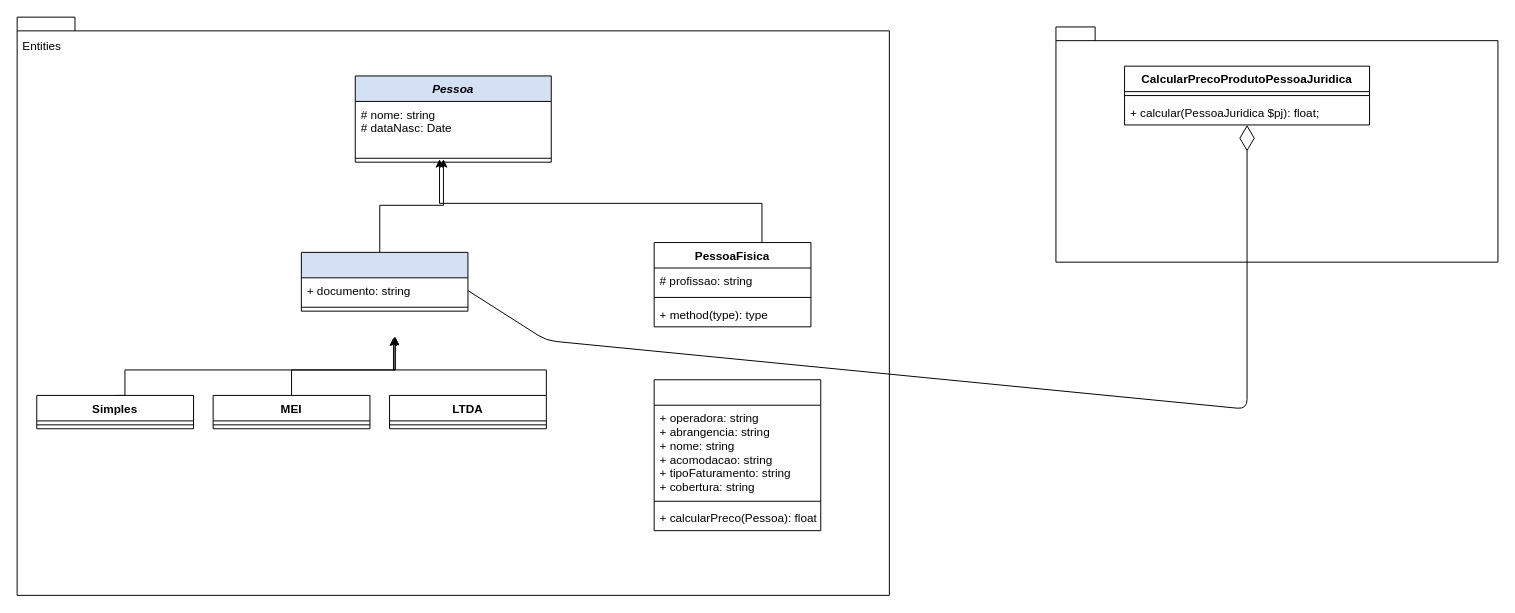
Some shapes in this 1515 by 613 pixel diagram are drawn without their labels. Here are the shapes that lost their labels. From the top down, the box of each, then its label:
(1055, 26, 1498, 262): Business
(300, 251, 468, 311): PessoaJuridica
(653, 379, 821, 531): Produto
